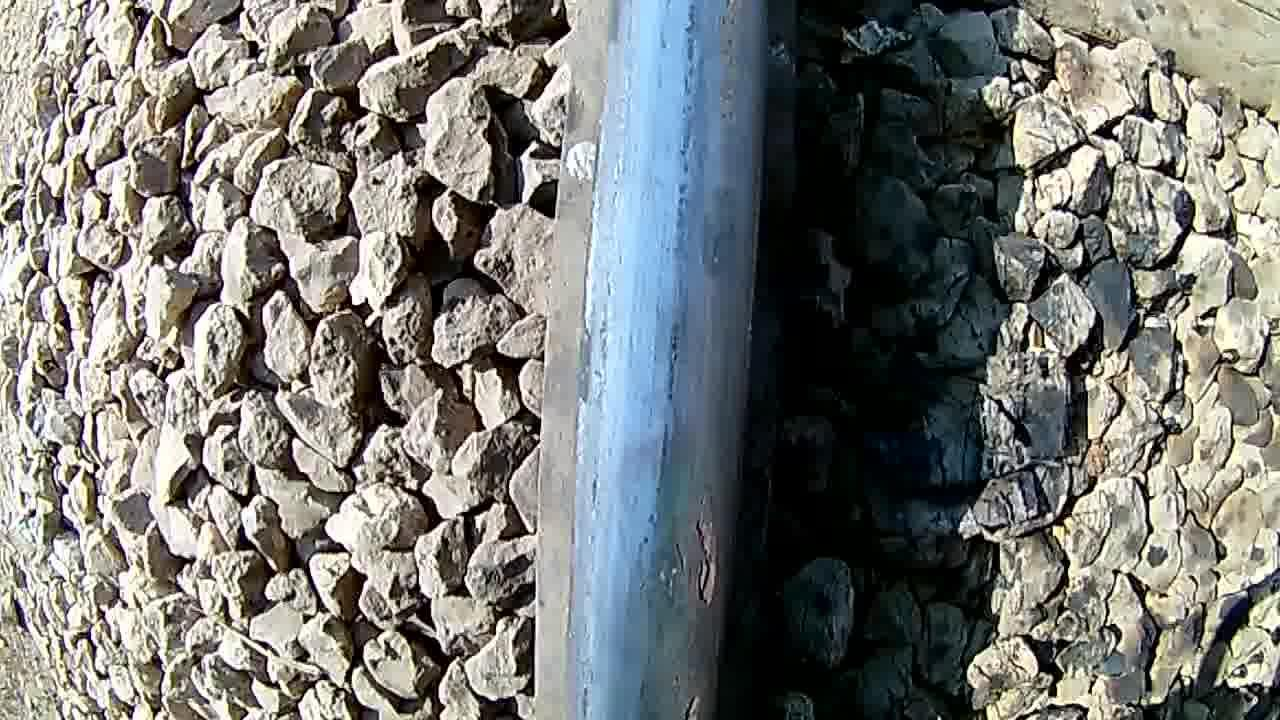crack: (581, 0, 769, 720)
